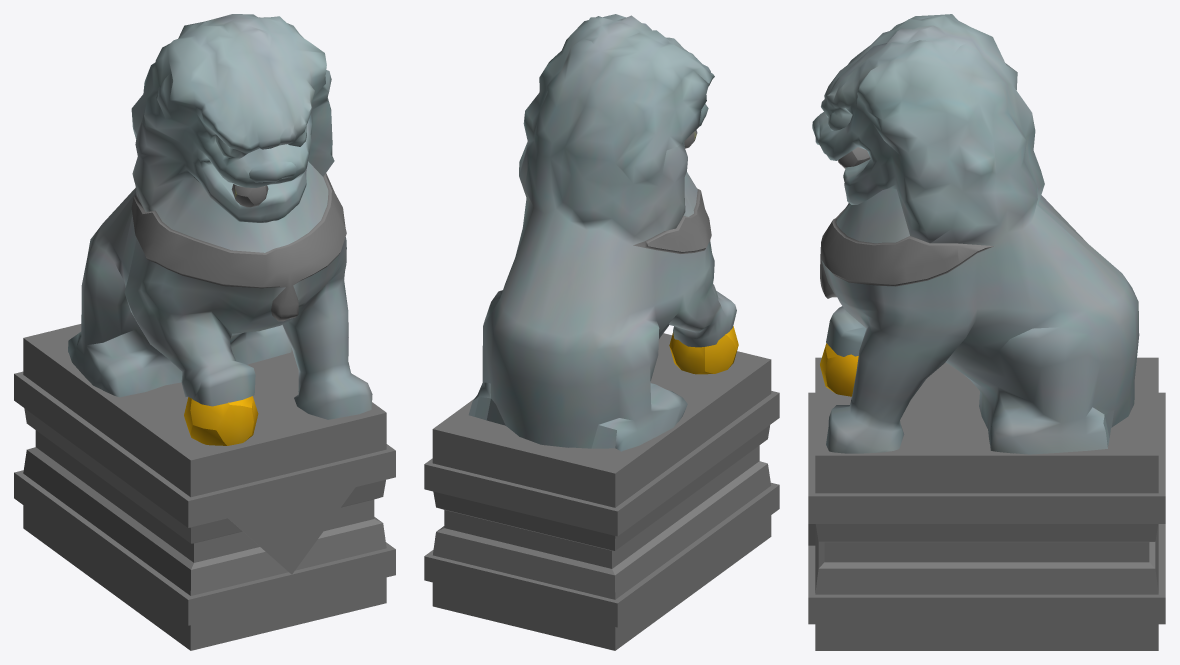
The model's file is Lion.fbx.
The picture shows the model from 3 angles, left to right: view 1: azimuth 30°, elevation 25°; view 2: azimuth 150°, elevation 25°; view 3: azimuth 270°, elevation 25°; orthographic projection. The views are drawn at different scales.
Parts seen in each view (by area): view 1: Lion2; view 2: Lion2; view 3: Lion2.
Boxes of the visible parts, left/top/right/bottom form: Lion2: left=14, top=14, right=395, bottom=650; Lion2: left=424, top=14, right=779, bottom=650; Lion2: left=808, top=14, right=1165, bottom=650.
Bounding box in the file's own units: 1.75 × 4.55 × 2.55.
